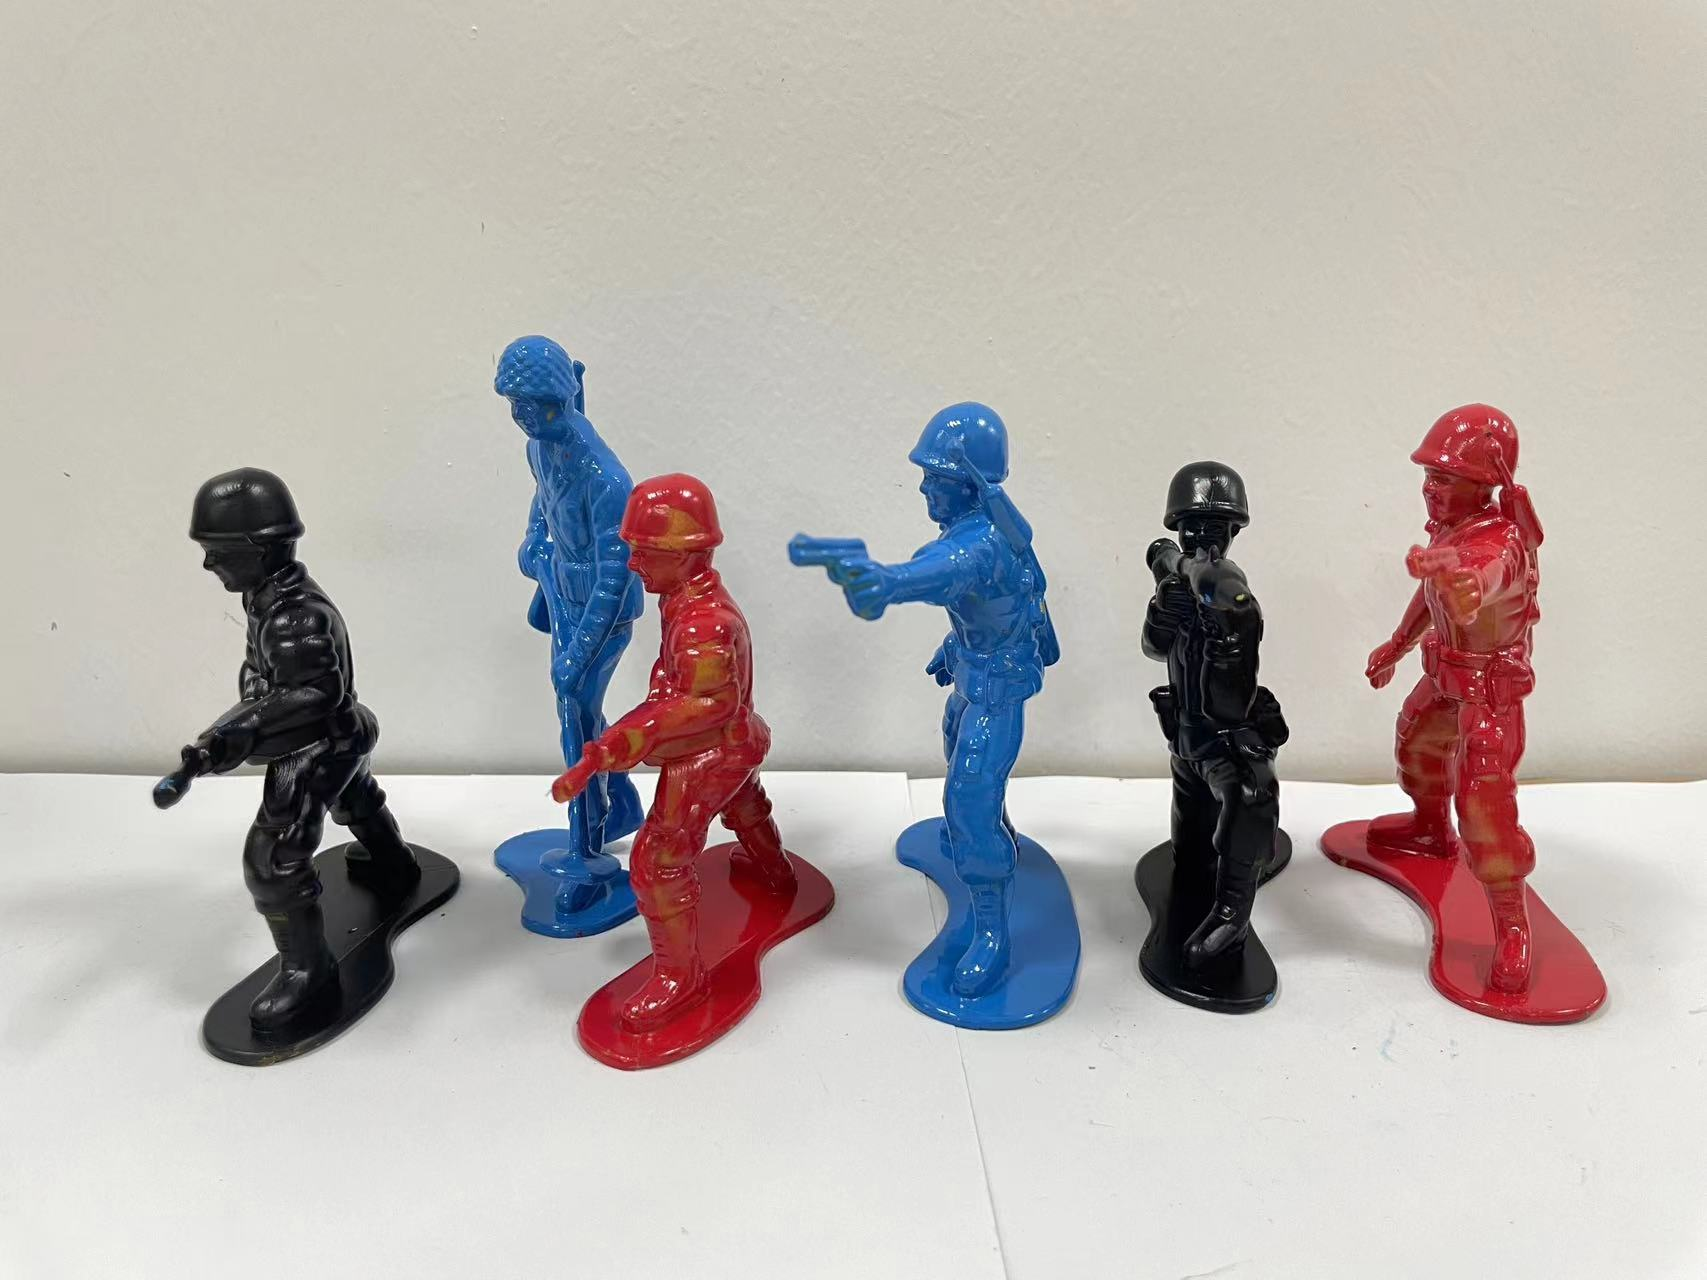black: (103, 464, 456, 1045), (1130, 448, 1310, 1059)
blue: (781, 391, 1095, 1059), (481, 319, 630, 926)
red: (1320, 382, 1663, 1086), (566, 473, 790, 1078)
